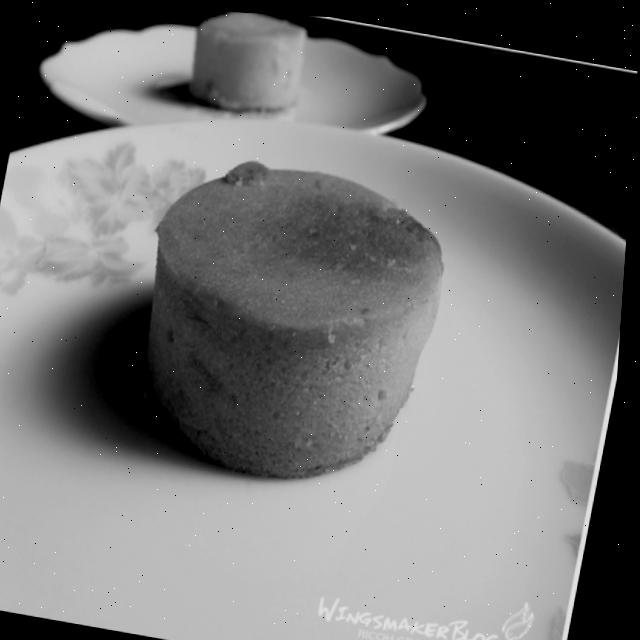蛋糕甜品: (101, 119, 490, 516)
